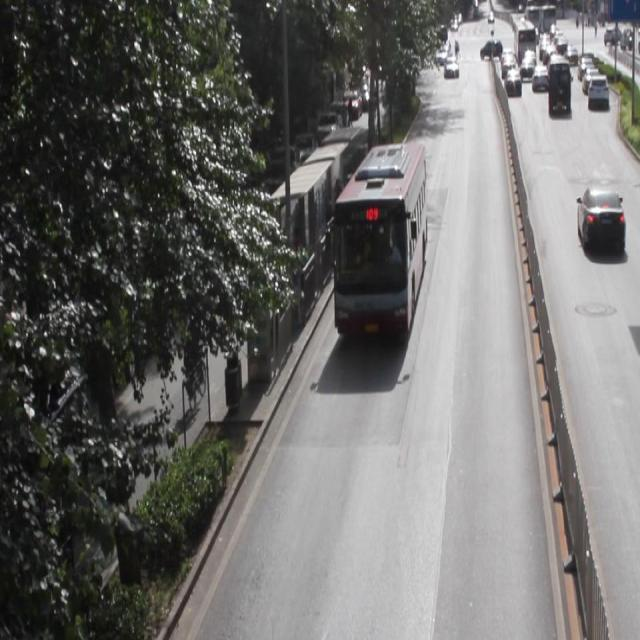car: (576, 186, 623, 253)
van: (333, 142, 426, 334)
